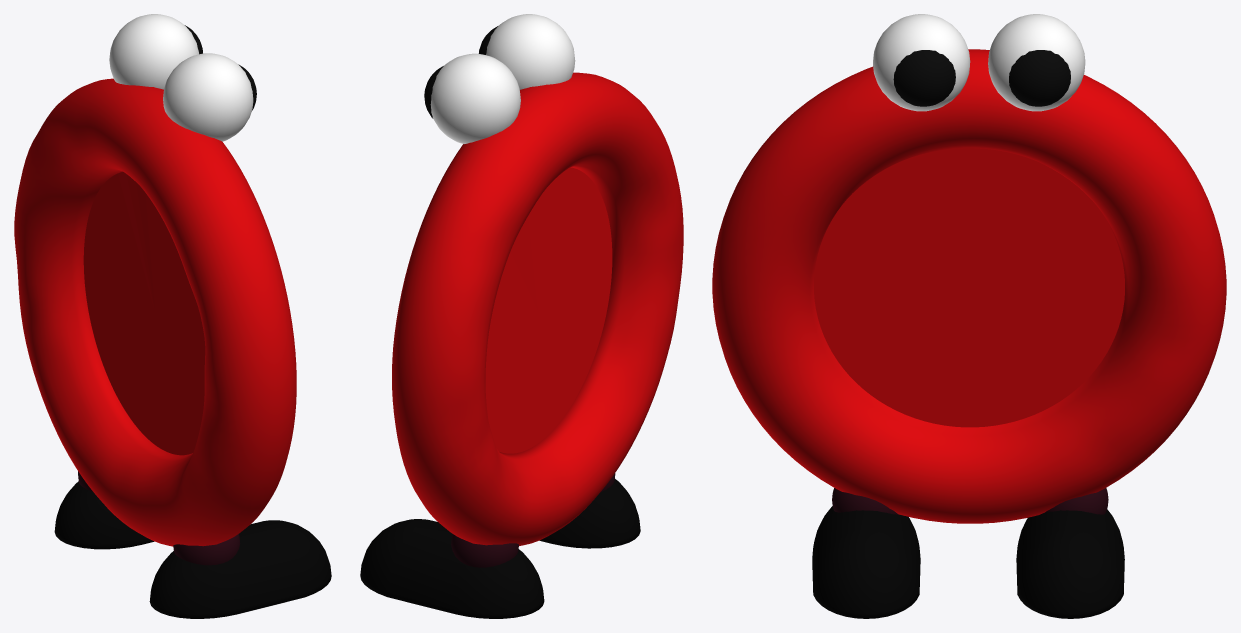
The model's file is RBC_TEST_fpx.fbx.
3 views of the same model, side by side, from view 1: azimuth 30°, elevation 25°; view 2: azimuth 150°, elevation 25°; view 3: azimuth 270°, elevation 25° (orthographic). The views are drawn at different scales.
Visible parts, largest first — view 1: RBC, Foot.001, ลูกตา, ลูกตา.002, Foot.003, Foot; view 2: RBC, Foot.003, ลูกตา.002, ลูกตา, Foot.001, Foot.002; view 3: RBC, Foot.001, Foot.003, ลูกตา, ลูกตา.002, นัยตา.002, นัยตา, Foot, Foot.002.
Boxes of the visible parts, x1,y1,x2,y2 form: RBC: (14,78,296,546); Foot.001: (149,520,331,618); ลูกตา: (163,53,253,141); ลูกตา.002: (109,14,198,89); Foot.003: (54,481,154,549); Foot: (173,534,240,565); RBC: (392,72,683,545); Foot.003: (360,519,544,618); ลูกตา.002: (430,53,520,143); ลูกตา: (486,14,575,89); Foot.001: (539,479,640,548); Foot.002: (451,534,518,567); RBC: (712,49,1226,523); Foot.001: (812,506,920,618); Foot.003: (1016,509,1124,618); ลูกตา: (873,14,970,111); ลูกตา.002: (988,14,1085,111); นัยตา.002: (1009,50,1070,106); นัยตา: (893,50,955,106); Foot: (832,488,898,514); Foot.002: (1045,488,1108,514).
Size of the model in its own units: 5.76 by 16.51 by 13.94.
